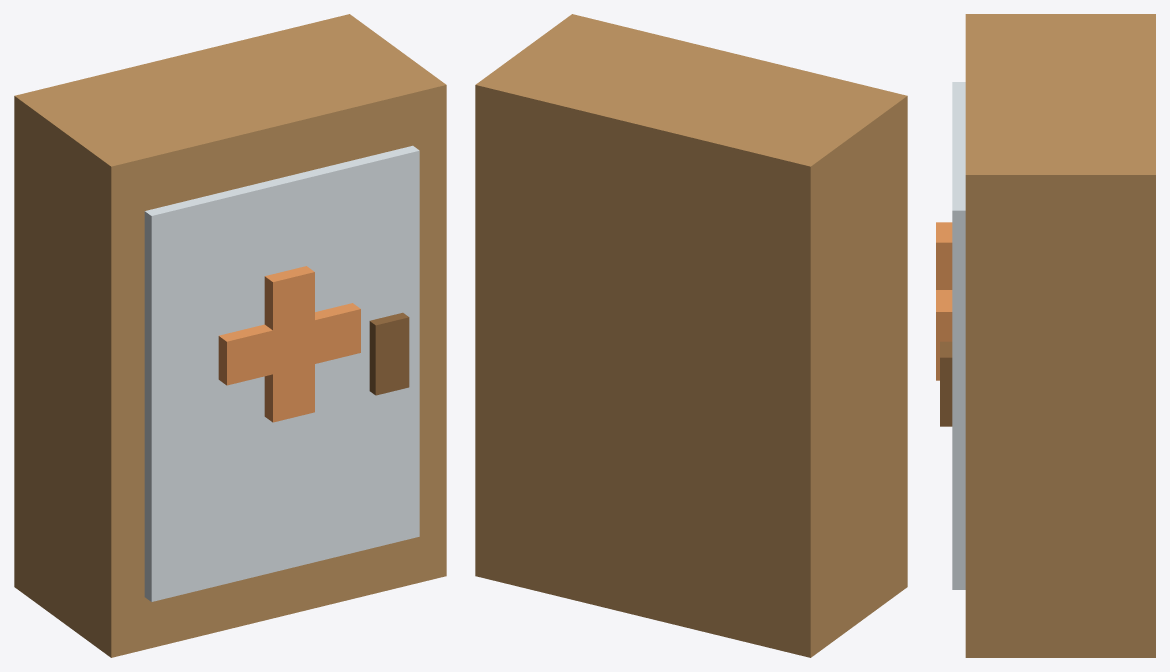
Rendered from medicine_cabinet.glb.
3 renders of one model, left to right at view 1: azimuth 30°, elevation 25°; view 2: azimuth 150°, elevation 25°; view 3: azimuth 270°, elevation 25°, orthographic.
Parts seen in each view (by area): view 1: medicine_cabinet; view 2: medicine_cabinet; view 3: medicine_cabinet.
Part boxes in pixels (x1=…): medicine_cabinet: x1=14, y1=14, x2=446, y2=657; medicine_cabinet: x1=475, y1=14, x2=907, y2=657; medicine_cabinet: x1=936, y1=14, x2=1155, y2=657.
Size of the model in its own units: 20 by 28 by 11.55.
